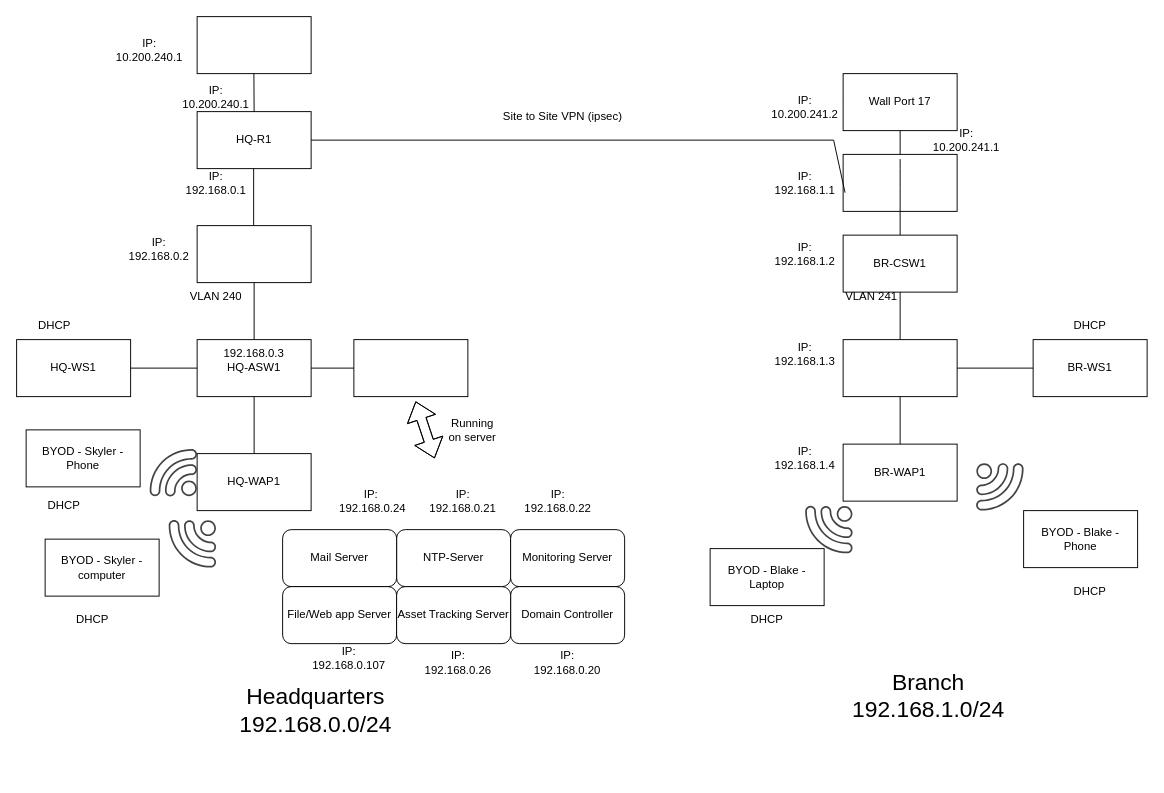
This 1164x793 diagram has some shape labels left out. The box of each missing label's shape, as (x1, y1, x2, y2) in pixels:
BR-ASW1: (842, 339, 957, 397)
BR-R1: (842, 153, 957, 211)
HQ-CSW1: (196, 225, 311, 283)
HQ-SRV1: (353, 339, 468, 397)
Wall Port 16: (196, 16, 311, 74)
